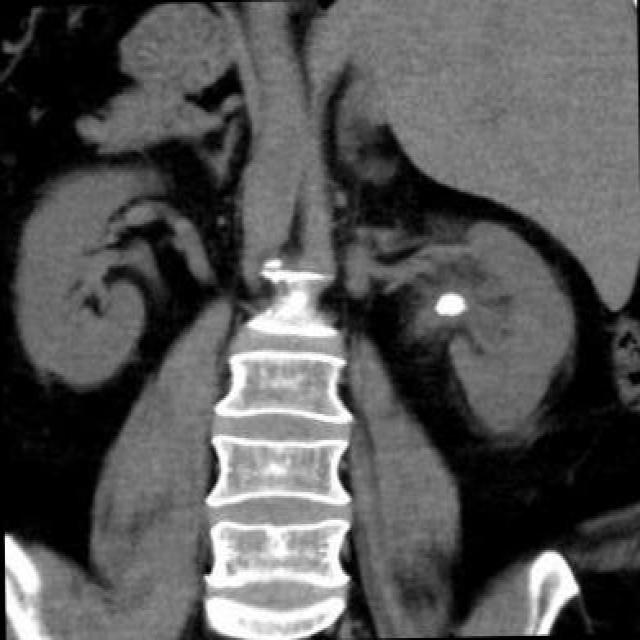Tas_Var: (427, 287, 472, 321)
